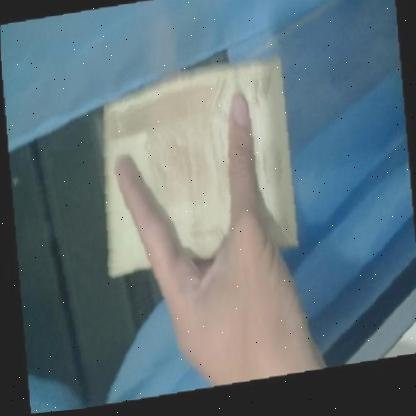five-back-vef: (102, 61, 297, 280)
